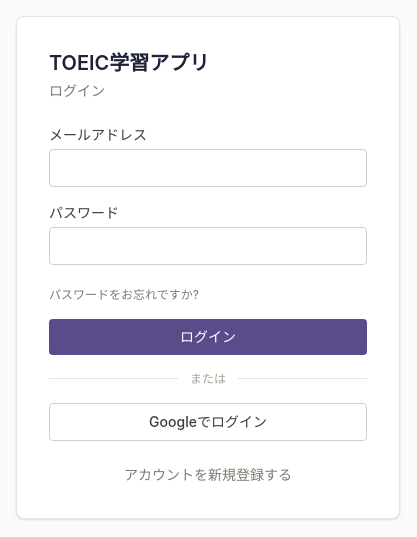
Test: Login (パスワード再設定, 追加分) › does not show the "パスワードをお忘れですか?" link in sign-up mode
Click the button "アカウントを新規登録する". click: (208, 474)
box: x1=49 y1=464 x2=367 y2=484
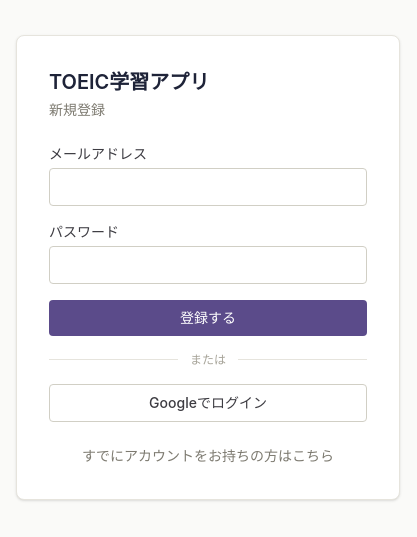
Check: the button "パスワードをお忘れですか?" is gone
